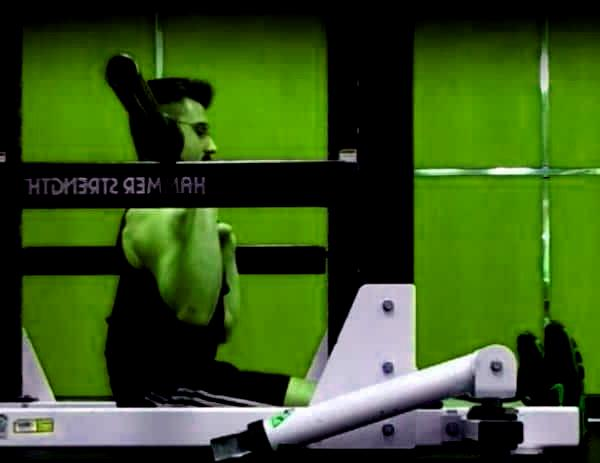Barbell: (97, 48, 143, 103)
